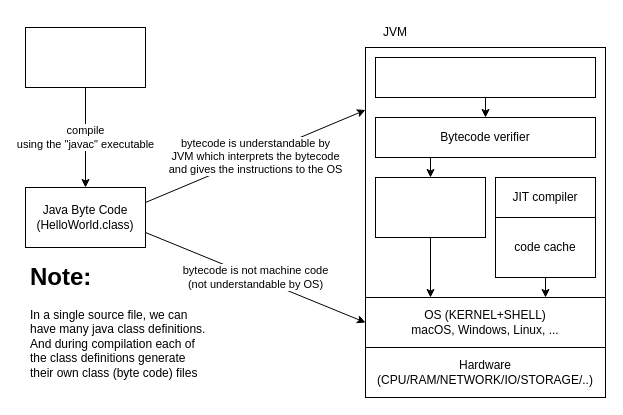
Some shapes in this 623 by 415 pixel diagram are drawn without their labels. Here are the shapes that lost their labels. From the top down, the centre of each, then its label:
point (85, 57): Java Source Code (HelloWorld.java)
point (485, 77): Class Loader
point (430, 207): Translator (interpreter)
